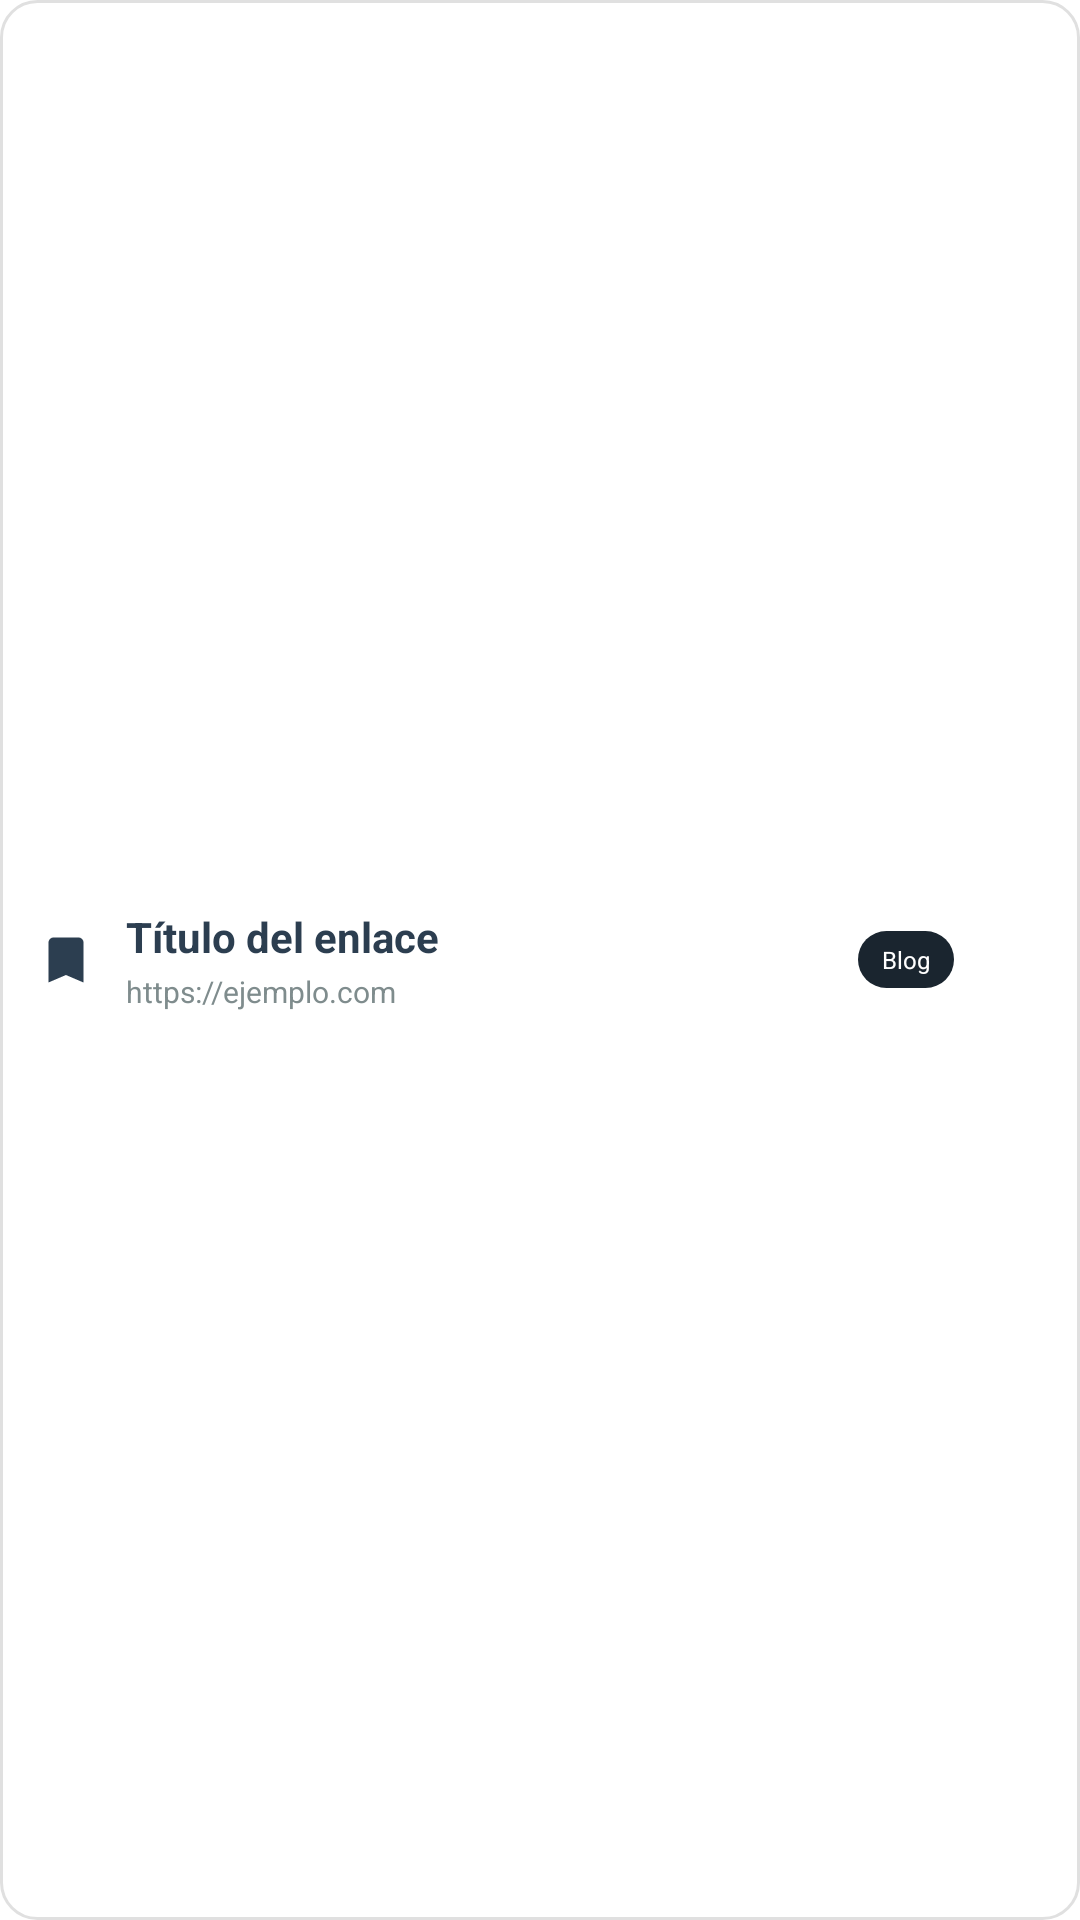

Named icons in this screenshot (1080px x 1920px) and their bounding boxes, [left=x1, top=y1, right=x2, bottom=y2]:
bookmark: [left=48, top=937, right=84, bottom=983]
